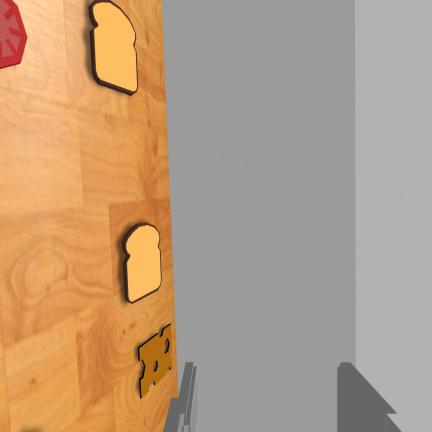cheese: (139, 324, 172, 398)
sliced_bread: (89, 0, 137, 95), (123, 224, 161, 302)
sliced_tomato: (0, 0, 27, 68)
